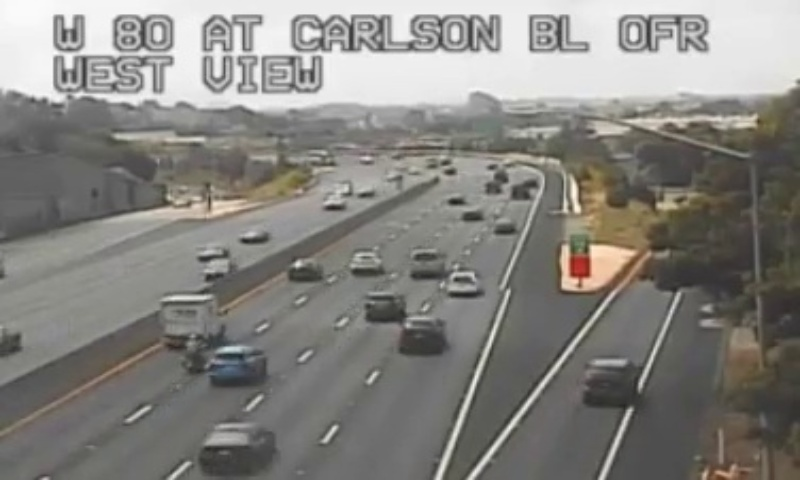car: (200, 424, 268, 467), (582, 359, 636, 404), (208, 346, 265, 384), (400, 315, 444, 353), (364, 292, 403, 323), (408, 249, 442, 277), (444, 270, 480, 295), (351, 251, 381, 275), (288, 258, 320, 279)
motorcycle: (178, 332, 206, 373)
small-truck: (159, 294, 225, 344)
